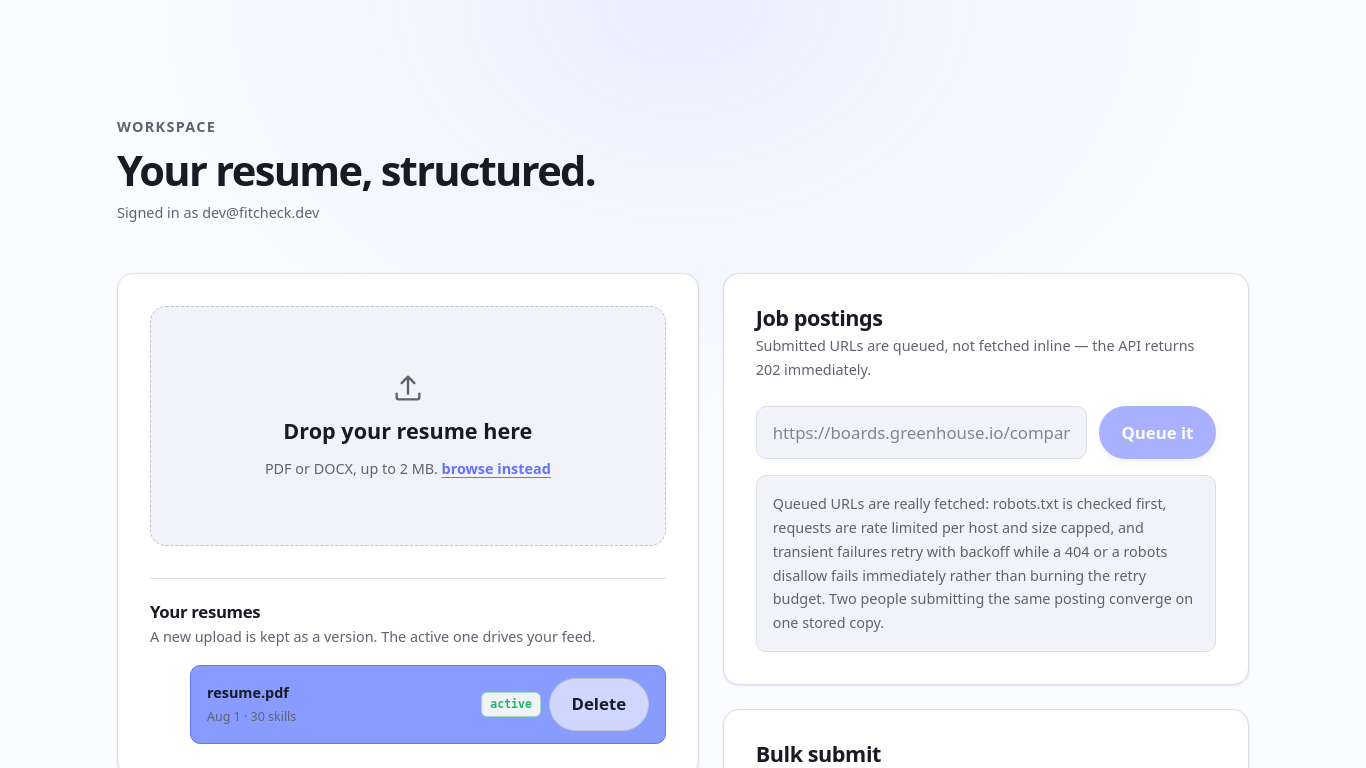
resume versions › lets the user back out
Step 1. Click the button "Delete" → (599, 704), box [549,678,649,730]
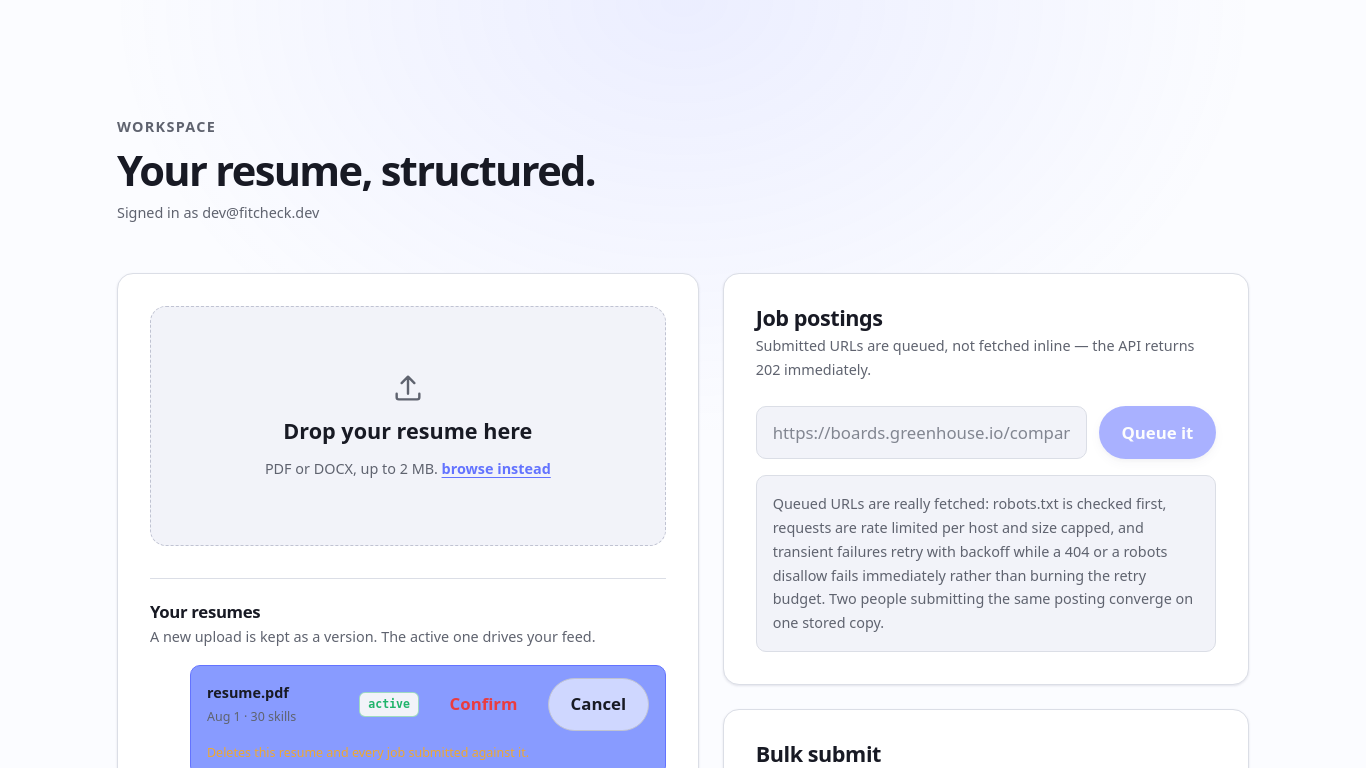
Step 2. Click the button "Cancel" → (598, 704), box [548,678,649,730]
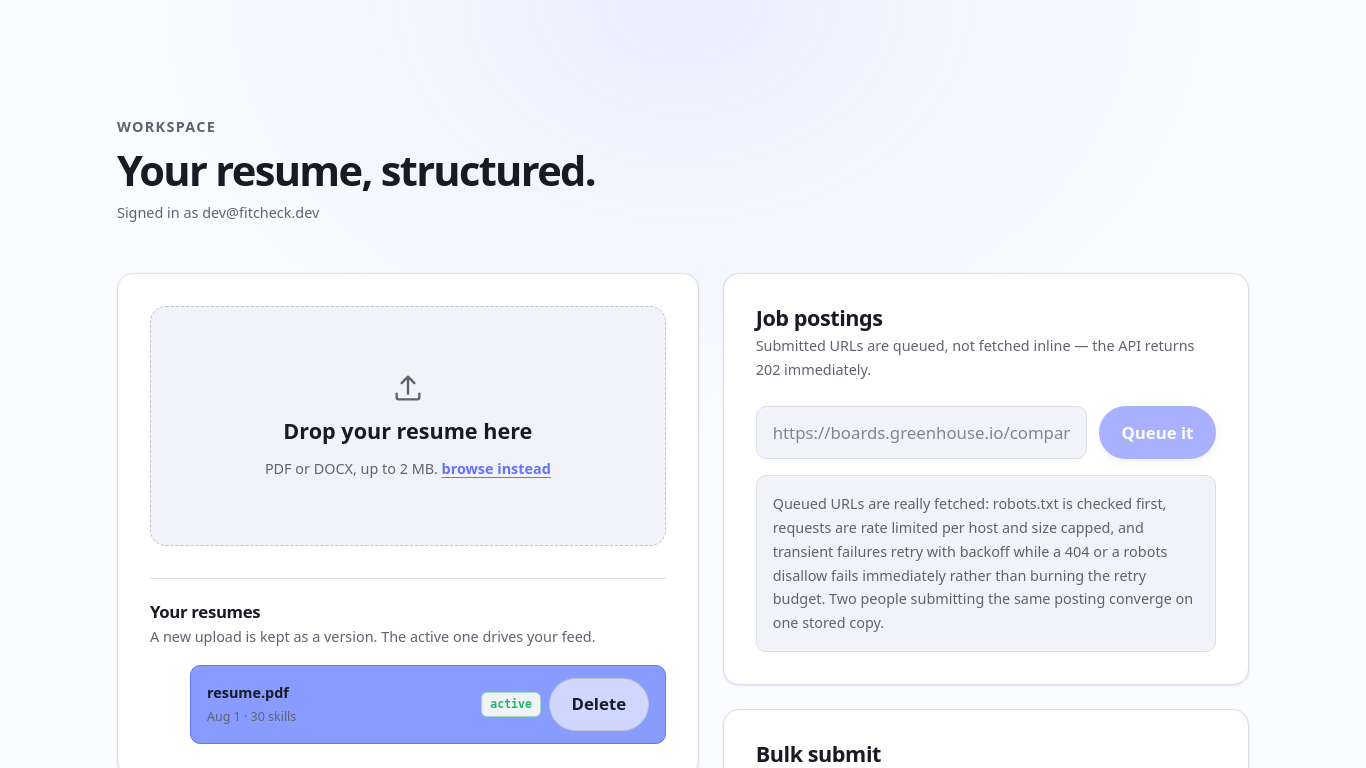
Result: the button "Confirm" is gone
